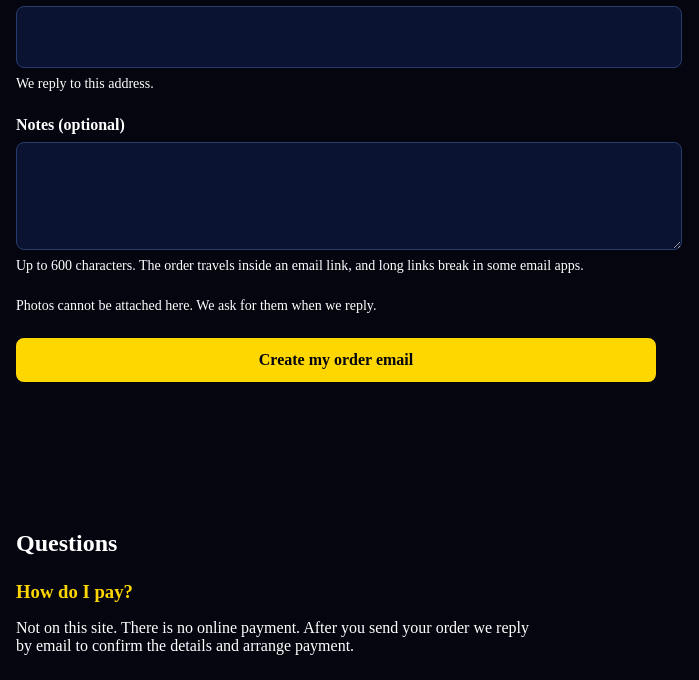
OrderPage (component): validation › test_submit_empty
(page scrolled)
Click the button "Create my order email": (336, 360) [16,338,656,382]
(page scrolled)
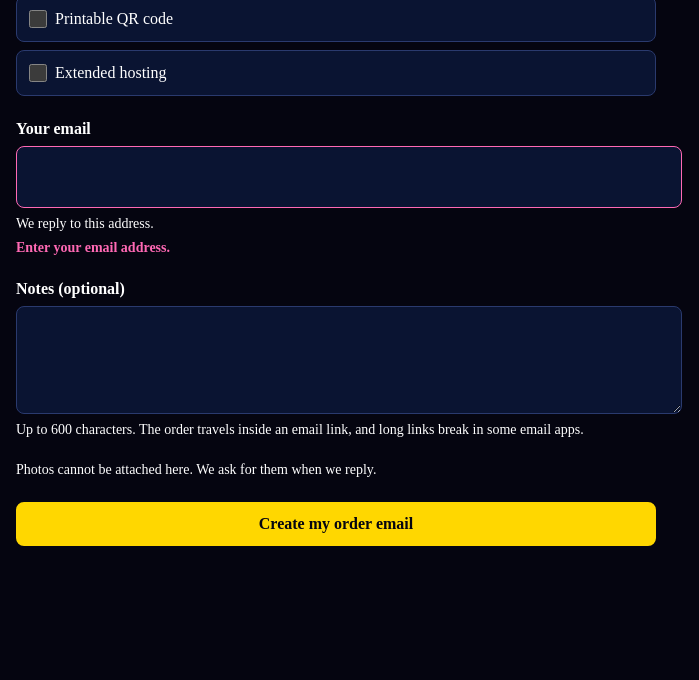
Now the text with id "order-email-error" reads "Enter your email address.", box [16,240,170,255]
